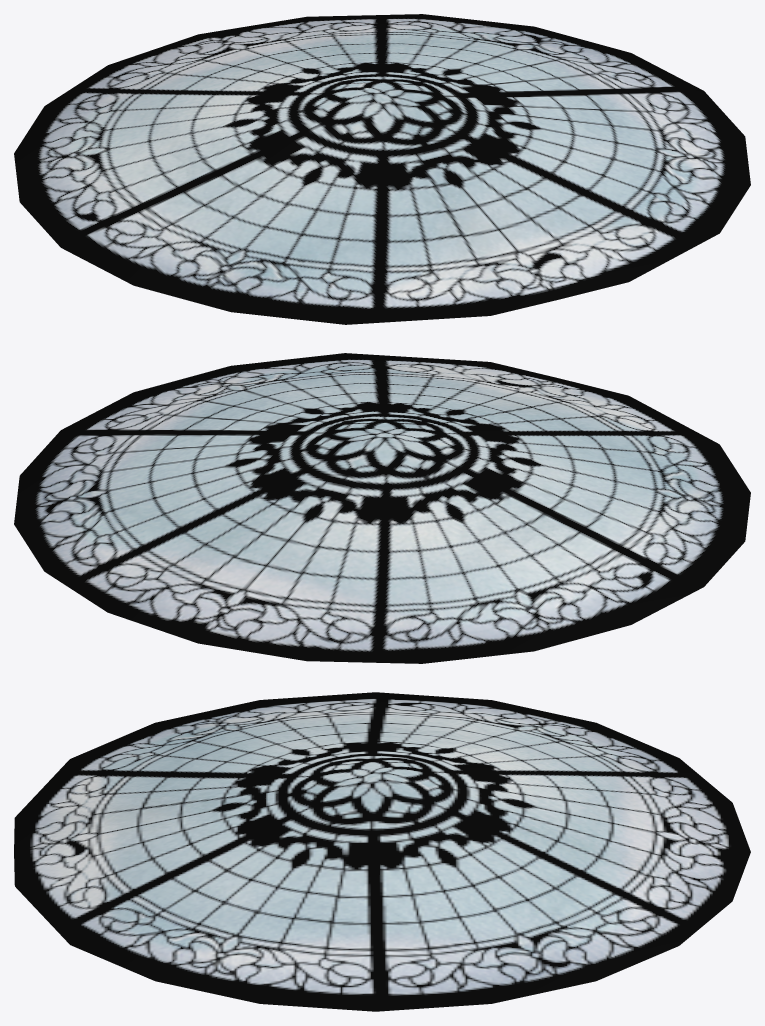
The model's file is abobada.fbx.
3 views of the same model, one above another, from view 1: azimuth 30°, elevation 25°; view 2: azimuth 150°, elevation 25°; view 3: azimuth 270°, elevation 25° (orthographic).
Visible parts, largest first — view 1: polySurface355; view 2: polySurface355; view 3: polySurface355.
Part boxes in pixels (x1=…): polySurface355: x1=14, y1=14, x2=750, y2=324; polySurface355: x1=14, y1=353, x2=750, y2=663; polySurface355: x1=14, y1=692, x2=750, y2=1011.
Size of the model in its own units: 15.34 by 1.7 by 14.95.
